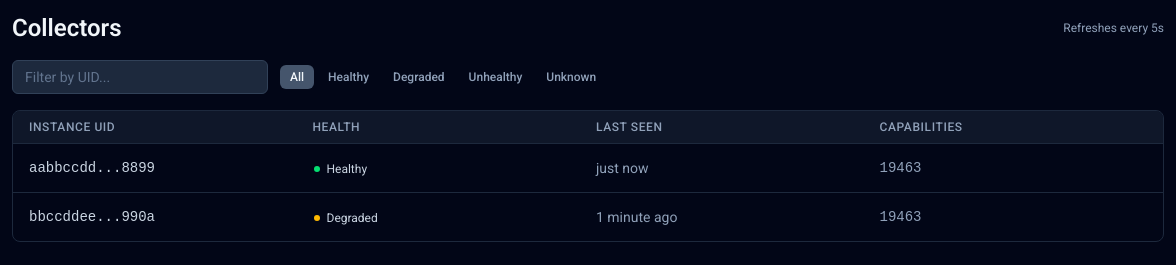
CollectorListPage › search input filters collector rows by UID
The image size is (1176, 265).
Check: the text "aabbccdd...8899" is shown, box [29,160,155,176]
Step 1. Type "nonexistentuid12345" into the search field → coordinates (140, 77), box [12,60,268,94]
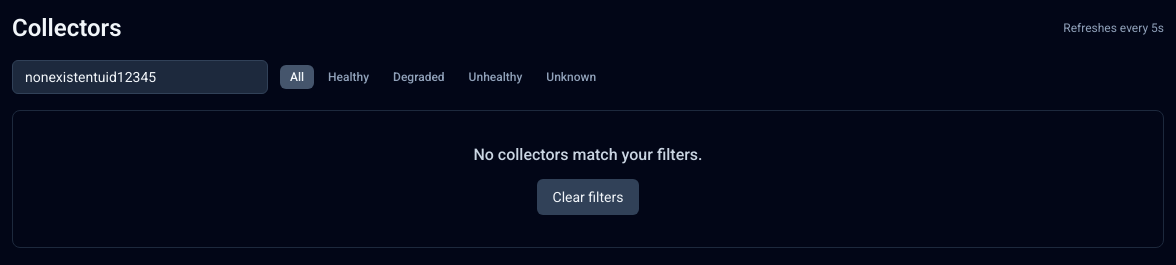
Check: the text "No collectors match your filters." is shown, box [473,145,702,164]
